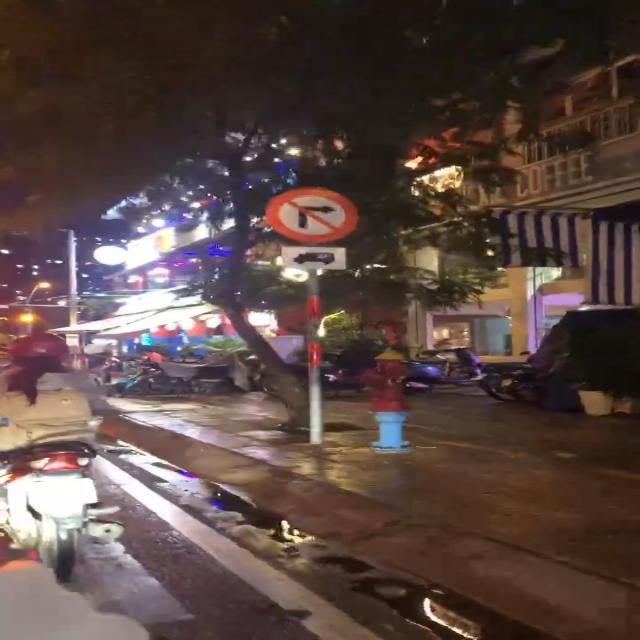Bien bao cam re phai: (263, 183, 361, 243)
